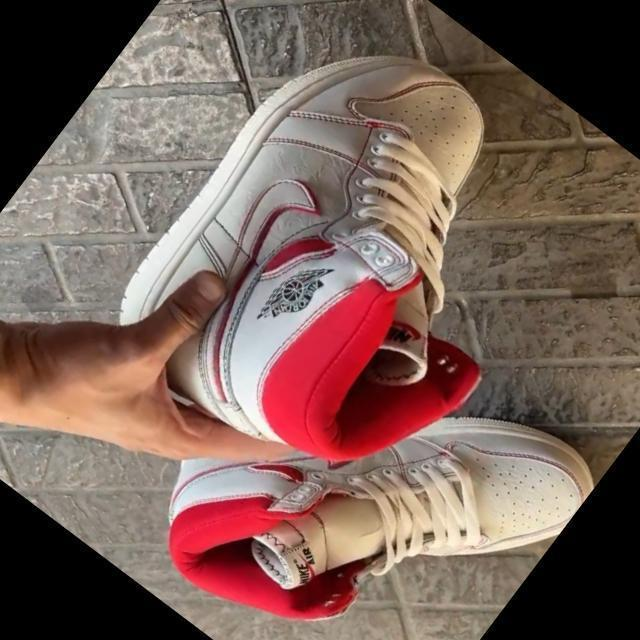nike fake jordan 1: (87, 0, 620, 538), (119, 261, 604, 640)
